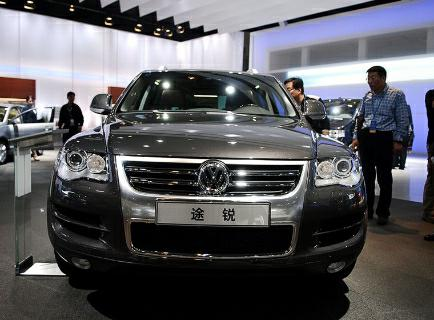大众-途锐: (42, 63, 374, 293)
